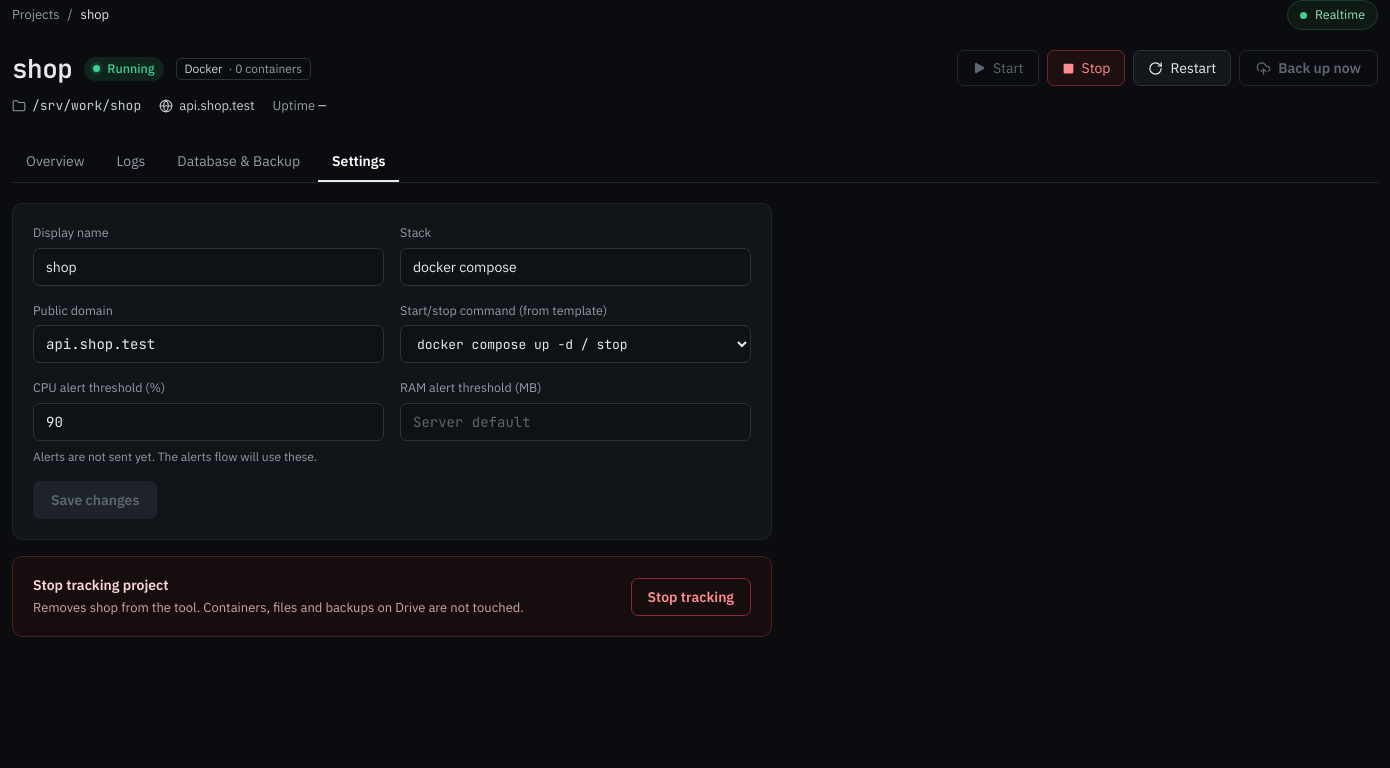
Test: settings tab › takes the values the server saved
Replace the text in the field labelled "Public domain" with " Shop.Example.com " at (208, 344), box [33,325,384,363]
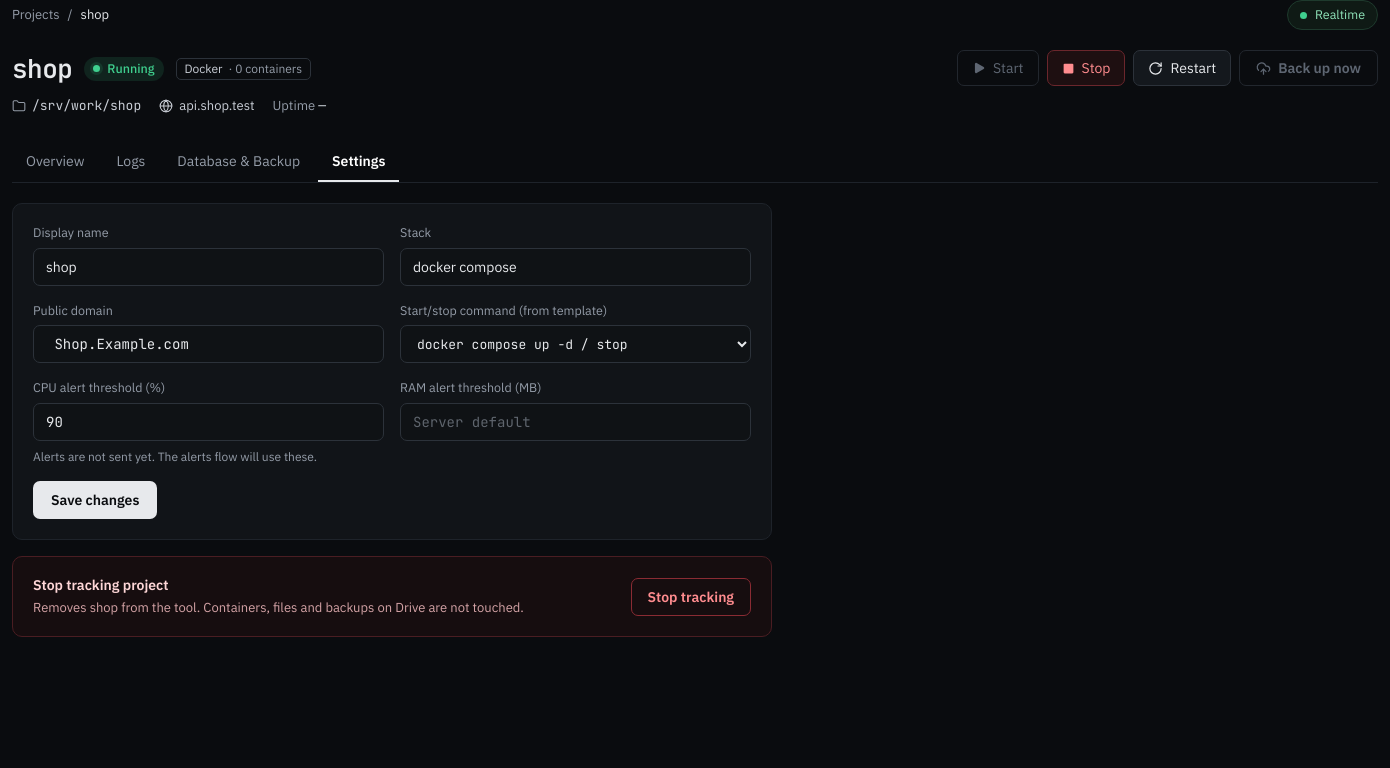
Click the button "Save changes" at (95, 500), box [33,481,157,519]
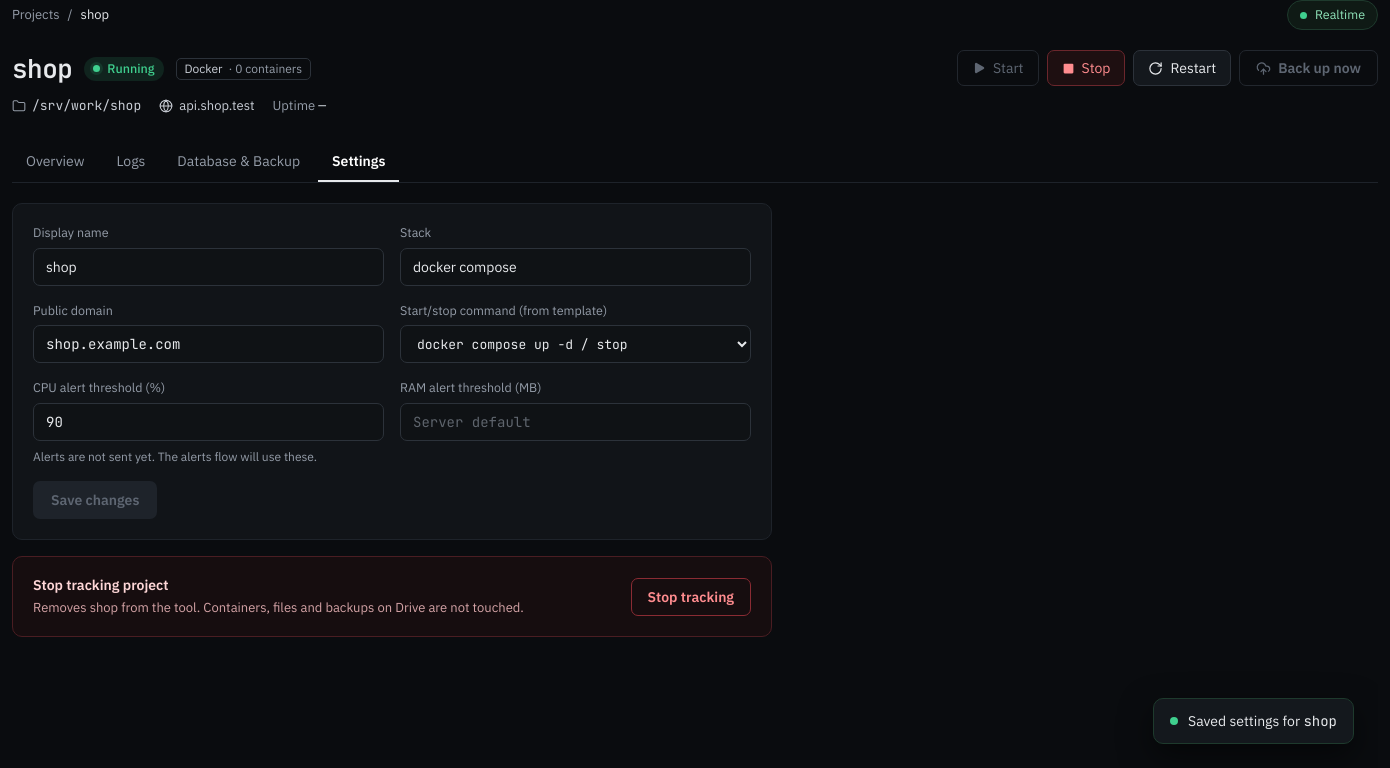
Now the element with test id "toast-success" is shown, box [1153,698,1354,744]
Now the button "Save changes" is disabled, box [33,481,157,519]
